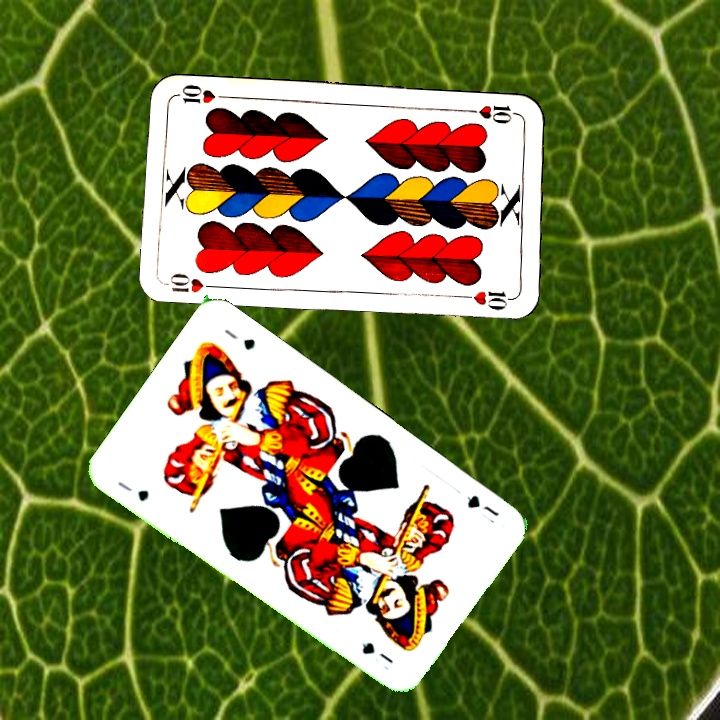GU: (463, 491, 502, 527), (113, 477, 152, 505)
H10: (164, 269, 223, 295), (463, 101, 522, 125)
